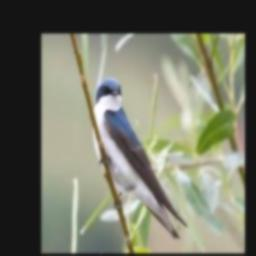Swallow: (92, 77, 188, 240)
